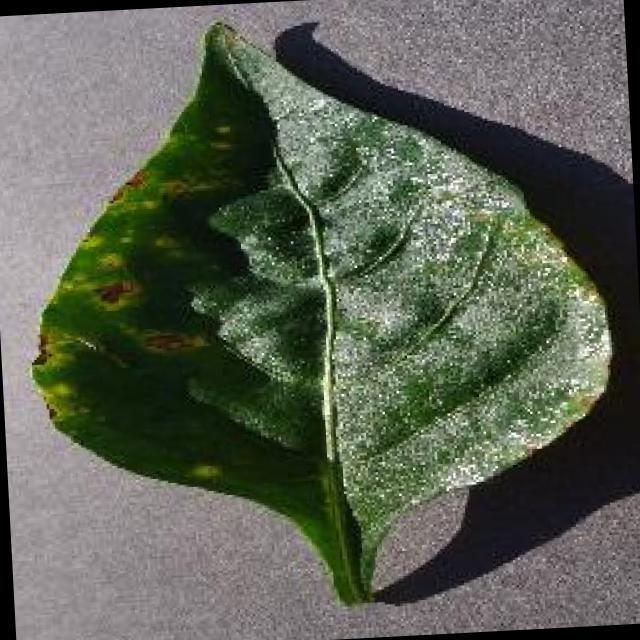Chilli_Bacterial_Spot: (9, 0, 629, 620), (77, 116, 259, 365), (87, 266, 212, 364), (84, 244, 146, 315), (138, 323, 209, 357), (90, 274, 142, 309), (180, 458, 226, 488), (154, 174, 192, 208), (202, 120, 236, 158), (88, 246, 127, 274), (464, 203, 498, 230)
